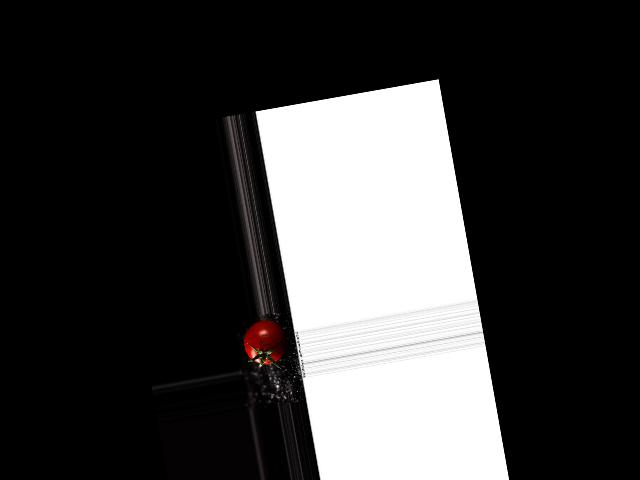tomato: (240, 317, 290, 367)
